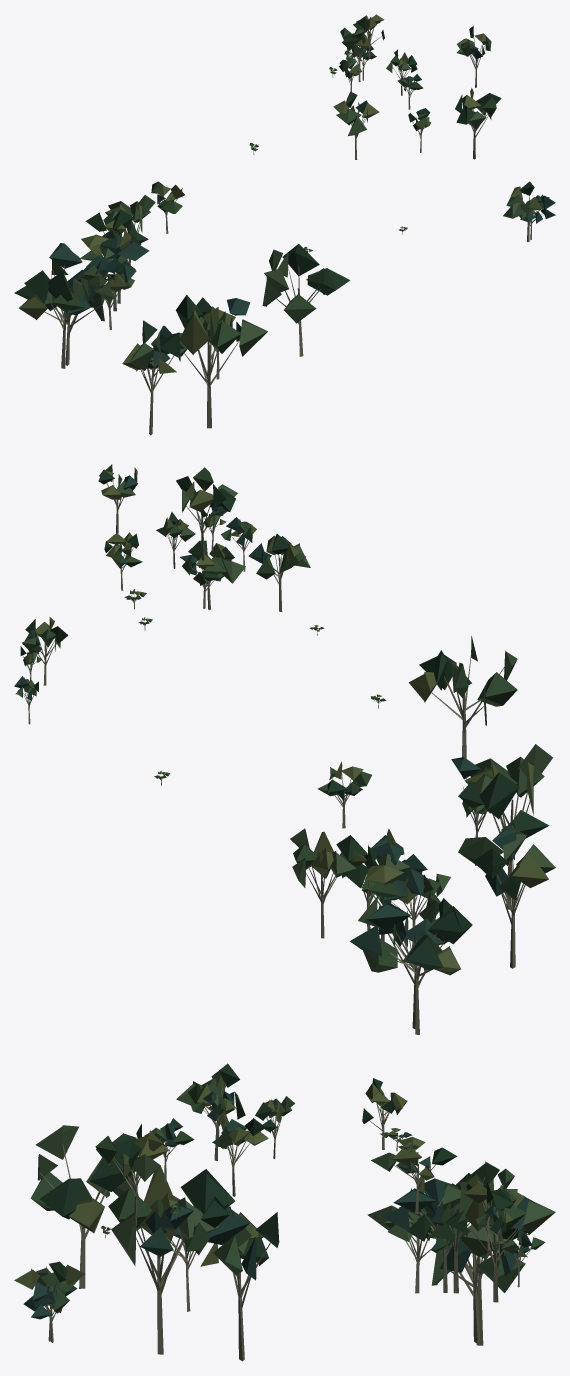
File: forest_24_24.dae
3 views of the same model, one above another, from view 1: azimuth 30°, elevation 25°; view 2: azimuth 150°, elevation 25°; view 3: azimuth 270°, elevation 25° (orthographic). The views are drawn at different scales.
Visible parts, largest first — view 1: Node; view 2: Node; view 3: Node.
Part boxes in pixels (x1,y1,x2,y2): Node: (14, 14, 555, 435); Node: (14, 464, 555, 1034); Node: (14, 1063, 555, 1361).
Size of the model in its own units: 11.25 by 9.5 by 9.16.
